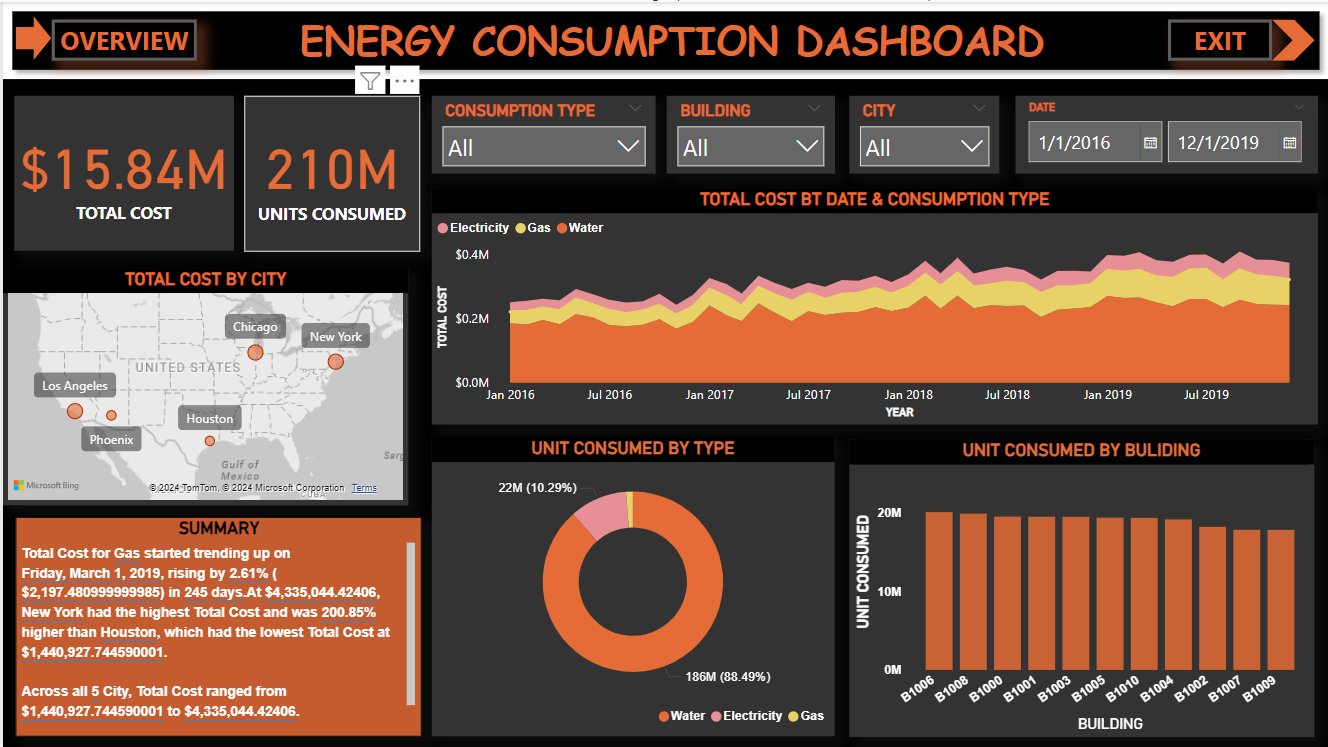

What the dashboard file says about the page in this screenshot:
{"tool":"powerbi","page":{"name":"OVERVIEW","canvas":[1280,720],"ordinal":0},"visuals":[{"type":"shape","box":[0,0,1279.7,74.5],"z":0},{"type":"textbox","box":[274.6,5.7,741.1,68.3],"z":1000},{"type":"card","fields":{"Values":["Energy Consumptions.Total Cost"]},"box":[11.4,91,212,149.4],"z":2000},{"type":"card","fields":{"Values":["Energy Consumptions.Units Consumed"]},"box":[233.3,91,169.3,150.8],"z":3000},{"type":"slicer","fields":{"Values":["Energy Consumptions.Consumption Type"]},"box":[414,91,216.2,75.4],"z":4000},{"type":"slicer","fields":{"Values":["Building Master.Building"]},"box":[640.1,91,162.2,75.4],"z":5000},{"type":"slicer","fields":{"Values":["Building Master.City"]},"box":[816.5,91,145.1,75.4],"z":6000},{"type":"slicer","fields":{"Values":["Energy Consumptions.Date"]},"box":[977.3,91,291.6,75.4],"z":7000},{"type":"map","title":"TOTAL COST BY CITY","fields":{"Category":["Building Master.City"],"Size":["Energy Consumptions.Total Cost"]},"box":[0,256.6,391.1,229.2],"z":8000},{"type":"stackedAreaChart","title":"TOTAL COST BT DATE & CONSUMPTION TYPE","fields":{"Series":["Energy Consumptions.Consumption Type"],"Category":["Energy Consumptions.Date.Variation.Date Hierarchy.Year","Energy Consumptions.Date.Variation.Date Hierarchy.Quarter","Energy Consumptions.Date.Variation.Date Hierarchy.Month","Energy Consumptions.Date.Variation.Date Hierarchy.Day"],"Y":["Energy Consumptions.Total Cost"]},"box":[414,179.2,854.9,227.6],"z":9000},{"type":"textbox","title":"SUMMARY","box":[11.7,496.7,391.7,211.7],"z":10000},{"type":"donutChart","title":"UNIT CONSUMED BY TYPE","fields":{"Y":["Sum(Energy Consumptions.Units)"],"Category":["Energy Consumptions.Consumption Type"]},"box":[414.3,420,388.6,288.6],"z":11000},{"type":"clusteredColumnChart","title":"UNIT CONSUMED BY BULIDING","fields":{"Category":["Energy Consumptions.Building"],"Y":["Energy Consumptions.Units Consumed"]},"box":[817.3,422.5,448.5,287.5],"z":12000},{"type":"actionButton","box":[46.8,17.3,140.3,39.8],"z":14000},{"type":"actionButton","box":[1123.8,17.3,100.4,39.8],"z":15000},{"type":"shape","box":[12.1,13.9,34.6,43.3],"z":16000},{"type":"shape","box":[1224.3,17.3,41.6,39.8],"z":17000}]}

Visuals, with their boxes in screenshot pixels (x1, y1, x2, y2), scaled from the page's 1280x720 canvas onto the 1328x747 screenshot:
shape: BBox(0, 0, 1327, 77)
textbox: BBox(285, 6, 1054, 77)
card - Energy Consumptions.Total Cost: BBox(12, 94, 232, 249)
card - Energy Consumptions.Units Consumed: BBox(242, 94, 418, 251)
slicer - Energy Consumptions.Consumption Type: BBox(430, 94, 654, 173)
slicer - Building Master.Building: BBox(664, 94, 832, 173)
slicer - Building Master.City: BBox(847, 94, 998, 173)
slicer - Energy Consumptions.Date: BBox(1014, 94, 1316, 173)
"TOTAL COST BY CITY" map: BBox(0, 266, 406, 504)
"TOTAL COST BT DATE & CONSUMPTION TYPE" stackedAreaChart: BBox(430, 186, 1316, 422)
"SUMMARY" textbox: BBox(12, 515, 419, 735)
"UNIT CONSUMED BY TYPE" donutChart: BBox(430, 436, 833, 735)
"UNIT CONSUMED BY BULIDING" clusteredColumnChart: BBox(848, 438, 1313, 737)
actionButton: BBox(49, 18, 194, 59)
actionButton: BBox(1166, 18, 1270, 59)
shape: BBox(13, 14, 48, 59)
shape: BBox(1270, 18, 1313, 59)
